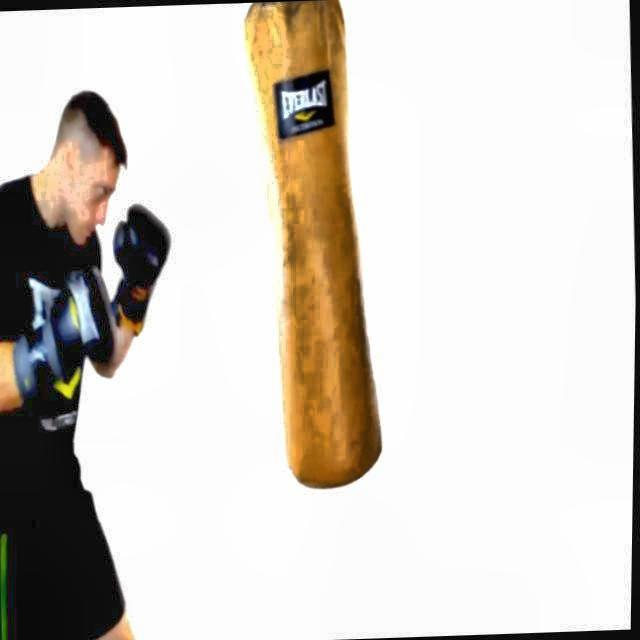boxing-bag: (238, 0, 392, 492)
high-guard: (54, 92, 148, 336)
